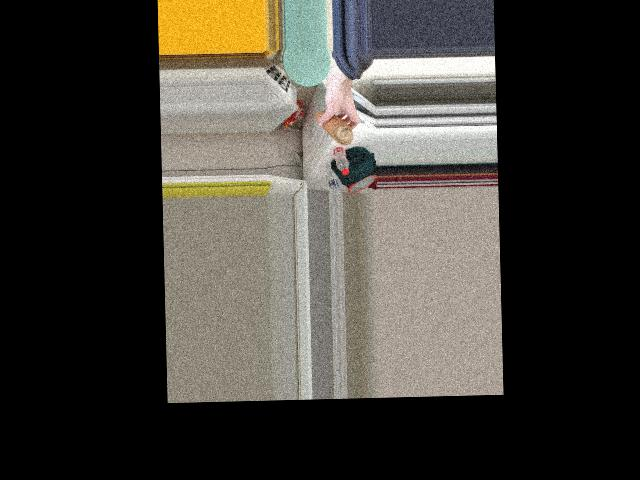sweet_potato: (311, 110, 356, 145)
